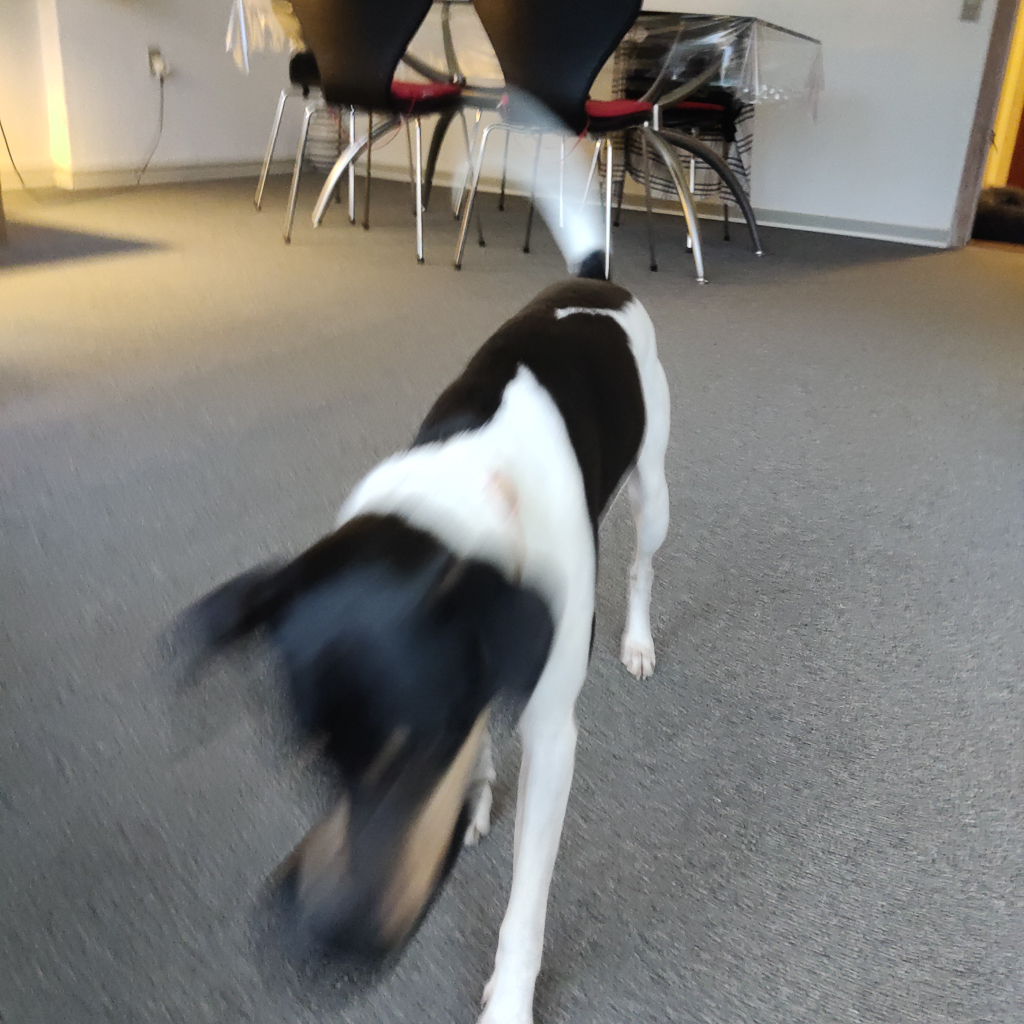Dog: (133, 63, 773, 1024)
